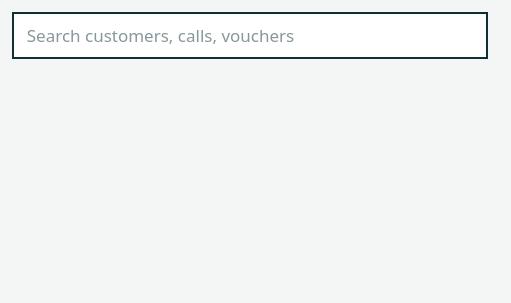
GlobalSearch › says No results for each empty group
The image size is (511, 303).
Type "zzzz" into the dropdown named "Search customers, calls and vouchers".
click(250, 35); type("zzzz")  # box [12,12,488,59]
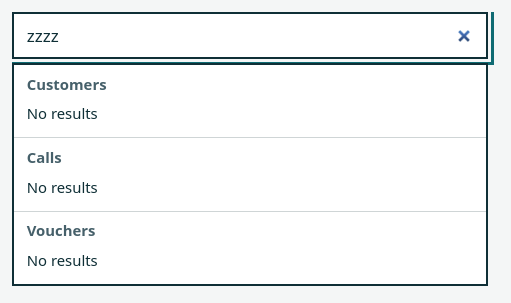
Expected: the element "Customers" is shown, [14,65,486,138]
Expected: the text "No results" is shown 3 times, [27,103,98,123]; [27,176,98,196]; [27,250,98,270]
